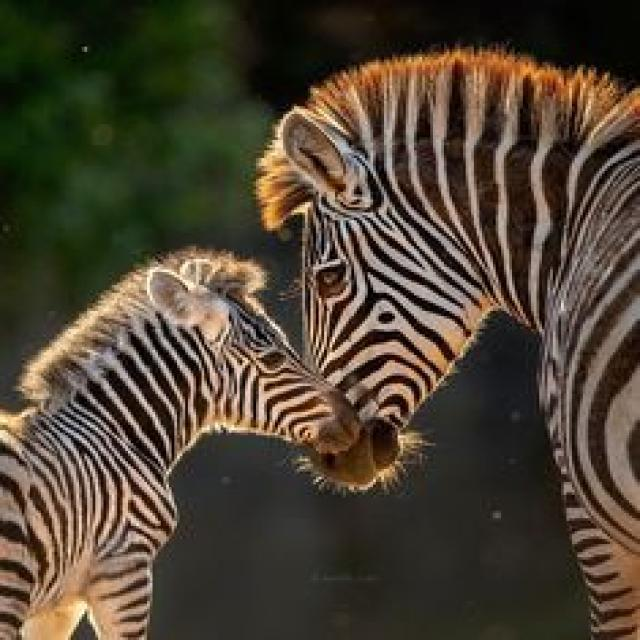Herbivorous: (256, 44, 640, 640), (0, 249, 365, 640)
